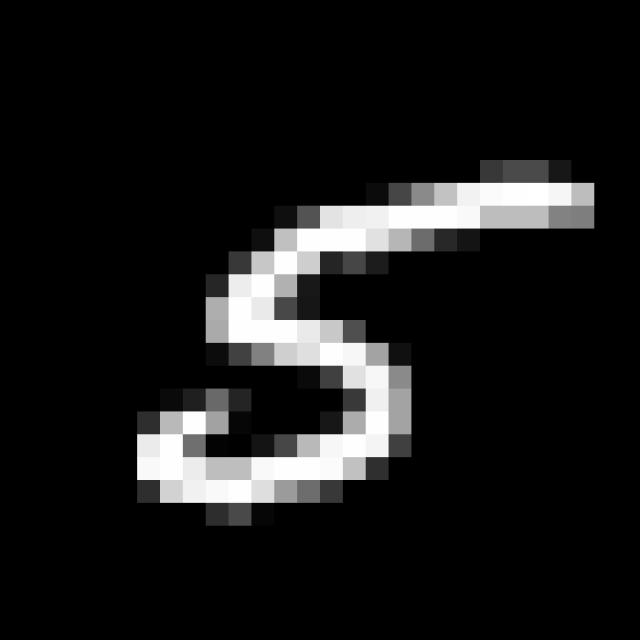five -5-: (125, 167, 598, 531)
